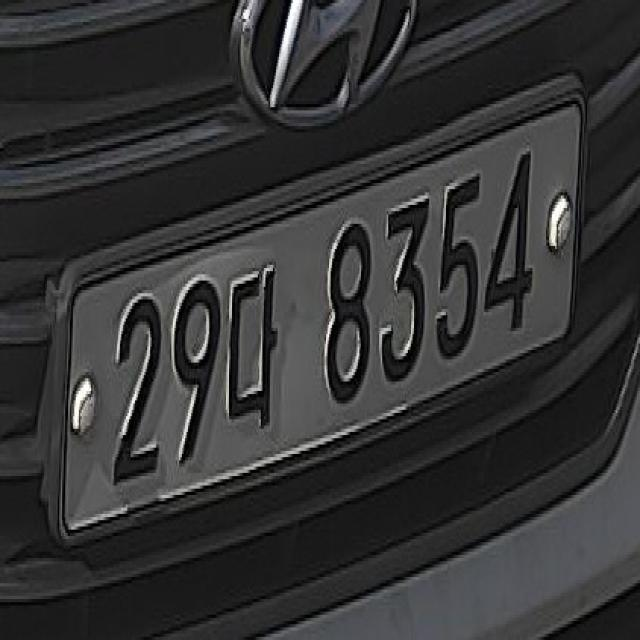plat: (36, 72, 588, 545)
